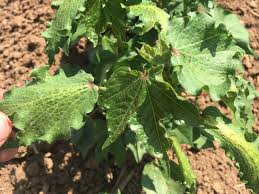damaged_cotton: (52, 2, 240, 86), (9, 70, 111, 146)
